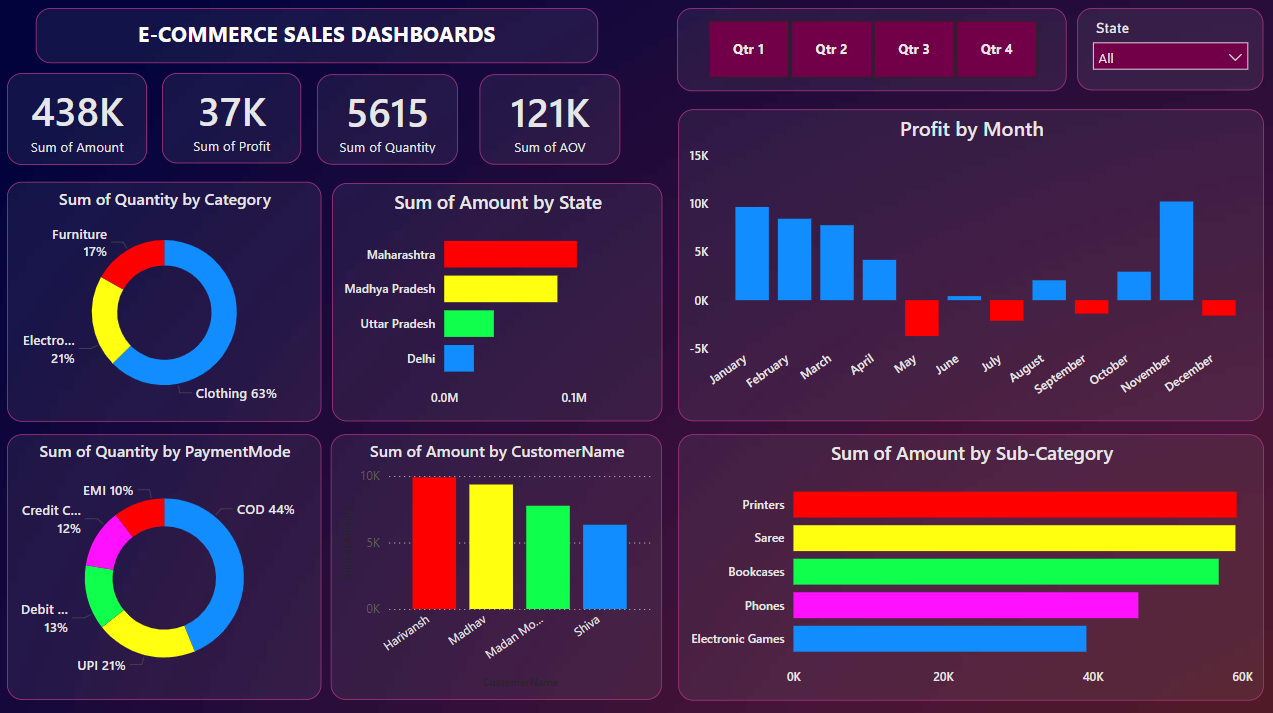

What the dashboard file says about the page in this screenshot:
{"tool":"powerbi","page":{"name":"Page 1","canvas":[1280,720],"ordinal":0},"visuals":[{"type":"textbox","box":[39.1,9.8,562.5,55],"z":0},{"type":"columnChart","title":"Profit by Month","fields":{"Y":["Sum(Details.Profit)"],"Category":["Orders.Order Date.Variation.Date Hierarchy.Month"]},"box":[681.1,111.3,585.7,311.8],"z":1000},{"type":"barChart","fields":{"Category":["Details.Sub-Category"],"Y":["Sum(Details.Amount)"]},"box":[681.1,436.6,585.7,266.6],"z":2000},{"type":"donutChart","fields":{"Category":["Details.Category"],"Y":["Sum(Details.Quantity)"]},"box":[9.8,183.4,314.3,239.7],"z":3000},{"type":"donutChart","fields":{"Category":["Details.PaymentMode"],"Y":["Sum(Details.Quantity)"]},"box":[9.8,436.6,314.3,265.4],"z":4000},{"type":"card","fields":{"Values":["Sum(Details.Amount)"]},"box":[9.8,74.6,140,92],"z":5000},{"type":"card","fields":{"Values":["Sum(Details.Profit)"]},"box":[165.1,74.6,139.4,90.5],"z":6000},{"type":"card","fields":{"Values":["Sum(Details.Quantity)"]},"box":[320.4,75.8,140.6,90.5],"z":7000},{"type":"card","fields":{"Values":["Sum(Details.AOV)"]},"box":[483,75.8,140.6,90.5],"z":8000},{"type":"barChart","fields":{"Category":["Orders.State"],"Y":["Sum(Details.Amount)"]},"box":[335.1,184.6,330.2,238.5],"z":9000},{"type":"columnChart","fields":{"Category":["Orders.CustomerName"],"Y":["Sum(Details.Amount)"]},"box":[333.8,436.6,331.4,265.4],"z":10000},{"type":"slicer","fields":{"Values":["Orders.Order Date.Variation.Date Hierarchy.Quarter"]},"box":[680.6,9.6,389.7,83],"z":11000},{"type":"slicer","fields":{"Values":["Orders.State"]},"box":[1079.9,9.6,186.6,82.3],"z":12000}]}

Visuals, with their boxes in screenshot pixels (x1, y1, x2, y2), scaled from the page's 1280x720 canvas onto the 1273x713 screenshot:
textbox: 39/10/598/64
"Profit by Month" columnChart: 677/110/1260/419
barChart - Details.Sub-Category x Sum(Details.Amount): 677/432/1260/696
donutChart - Details.Category x Sum(Details.Quantity): 10/182/322/419
donutChart - Details.PaymentMode x Sum(Details.Quantity): 10/432/322/695
card - Sum(Details.Amount): 10/74/149/165
card - Sum(Details.Profit): 164/74/303/163
card - Sum(Details.Quantity): 319/75/458/165
card - Sum(Details.AOV): 480/75/620/165
barChart - Orders.State x Sum(Details.Amount): 333/183/662/419
columnChart - Orders.CustomerName x Sum(Details.Amount): 332/432/662/695
slicer - Orders.Order Date.Variation.Date Hierarchy.Quarter: 677/10/1064/92
slicer - Orders.State: 1074/10/1260/91
